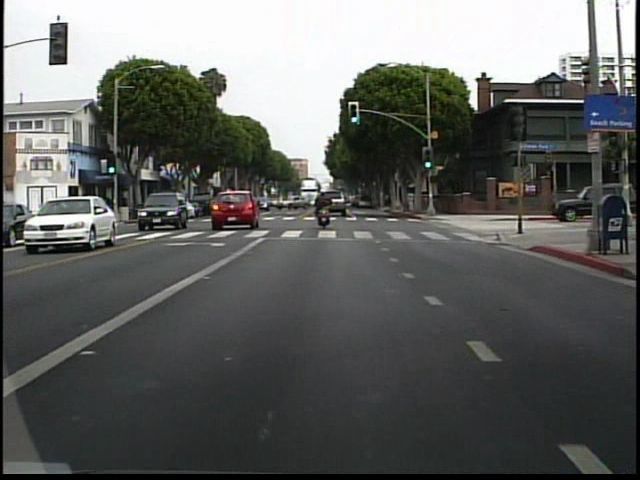person: (313, 185, 340, 232)
